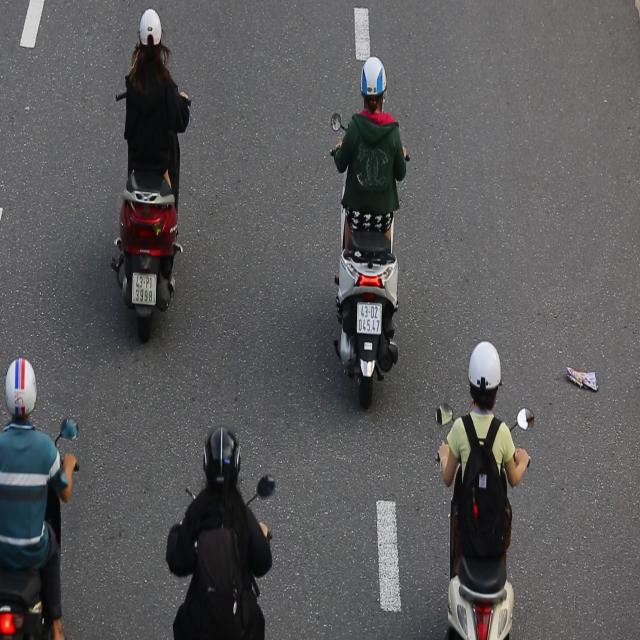motorbike: (325, 55, 412, 414), (110, 4, 194, 350)
